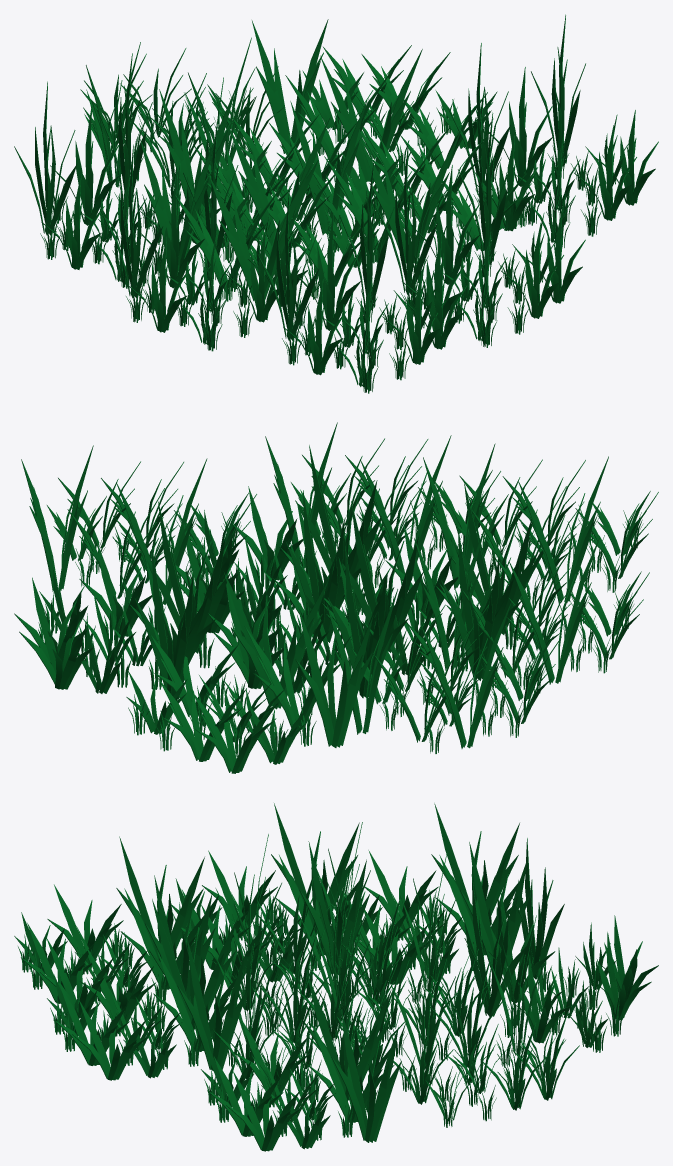
Rendered from more_grass.fbx.
3 views of the same model, one above another, from view 1: azimuth 30°, elevation 25°; view 2: azimuth 150°, elevation 25°; view 3: azimuth 270°, elevation 25° (orthographic). The views are drawn at different scales.
Visible parts, largest first — view 1: pPlane169, pPlane168, pPlane170, pPlane164, pPlane167, pPlane162, pPlane163, pPlane166, pPlane161, pPlane165; view 2: pPlane165, pPlane164, pPlane163, pPlane166, pPlane161, pPlane169, pPlane162, pPlane170, pPlane167, pPlane168; view 3: pPlane170, pPlane168, pPlane165, pPlane169, pPlane167, pPlane166, pPlane164, pPlane161, pPlane163, pPlane162.
Boxes of the visible parts, x1,y1,x2,y2 form: pPlane169: [256, 158, 466, 393]; pPlane168: [375, 112, 585, 347]; pPlane170: [448, 14, 658, 247]; pPlane164: [252, 19, 497, 183]; pPlane167: [100, 116, 310, 351]; pPlane162: [140, 137, 383, 301]; pPlane163: [290, 100, 536, 263]; pPlane166: [14, 53, 222, 288]; pPlane161: [159, 88, 404, 250]; pPlane165: [80, 37, 283, 189]; pPlane165: [126, 572, 373, 773]; pPlane164: [14, 501, 230, 698]; pPlane163: [175, 445, 381, 642]; pPlane166: [326, 589, 561, 753]; pPlane161: [207, 501, 423, 698]; pPlane169: [423, 443, 658, 608]; pPlane162: [324, 483, 536, 680]; pPlane170: [21, 445, 256, 604]; pPlane167: [414, 524, 649, 689]; pPlane168: [265, 422, 500, 587]; pPlane170: [201, 970, 401, 1151]; pPlane168: [47, 899, 247, 1080]; pPlane165: [464, 838, 658, 1052]; pPlane169: [14, 836, 215, 1017]; pPlane167: [171, 803, 369, 983]; pPlane166: [330, 803, 530, 984]; pPlane164: [389, 915, 579, 1127]; pPlane161: [297, 851, 490, 1063]; pPlane163: [212, 891, 404, 1102]; pPlane162: [212, 822, 405, 1033].
Size of the model in its own units: 12.07 by 2.88 by 13.2.
